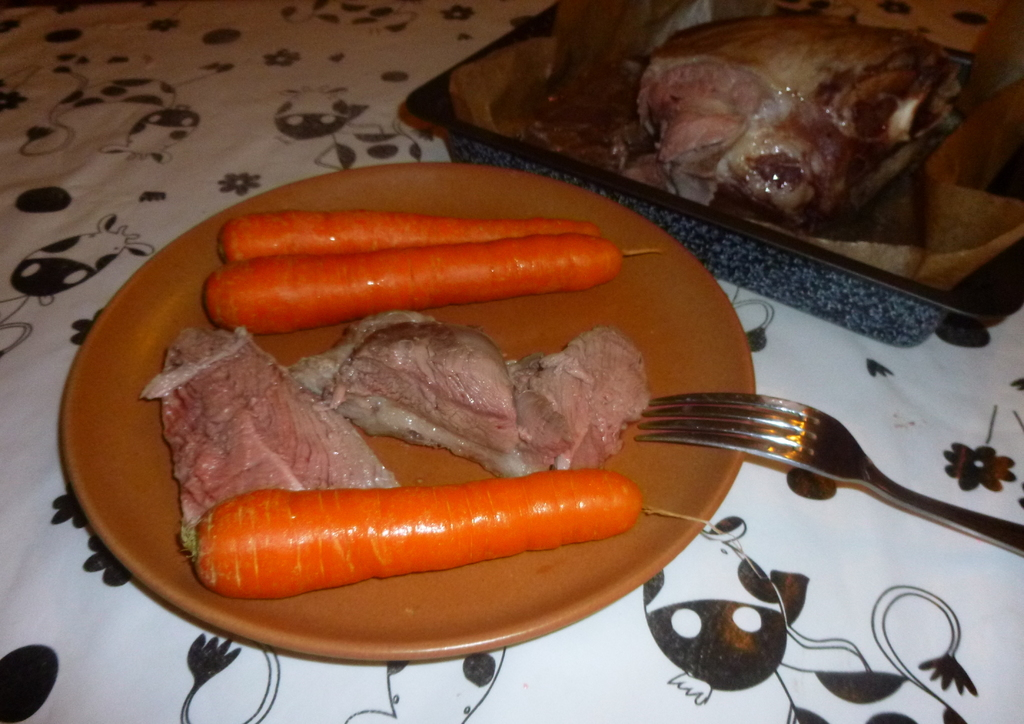Carrot: (179, 467, 762, 599), (203, 233, 662, 335), (217, 210, 600, 264)
